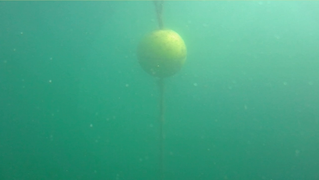buoy: (136, 28, 187, 78)
